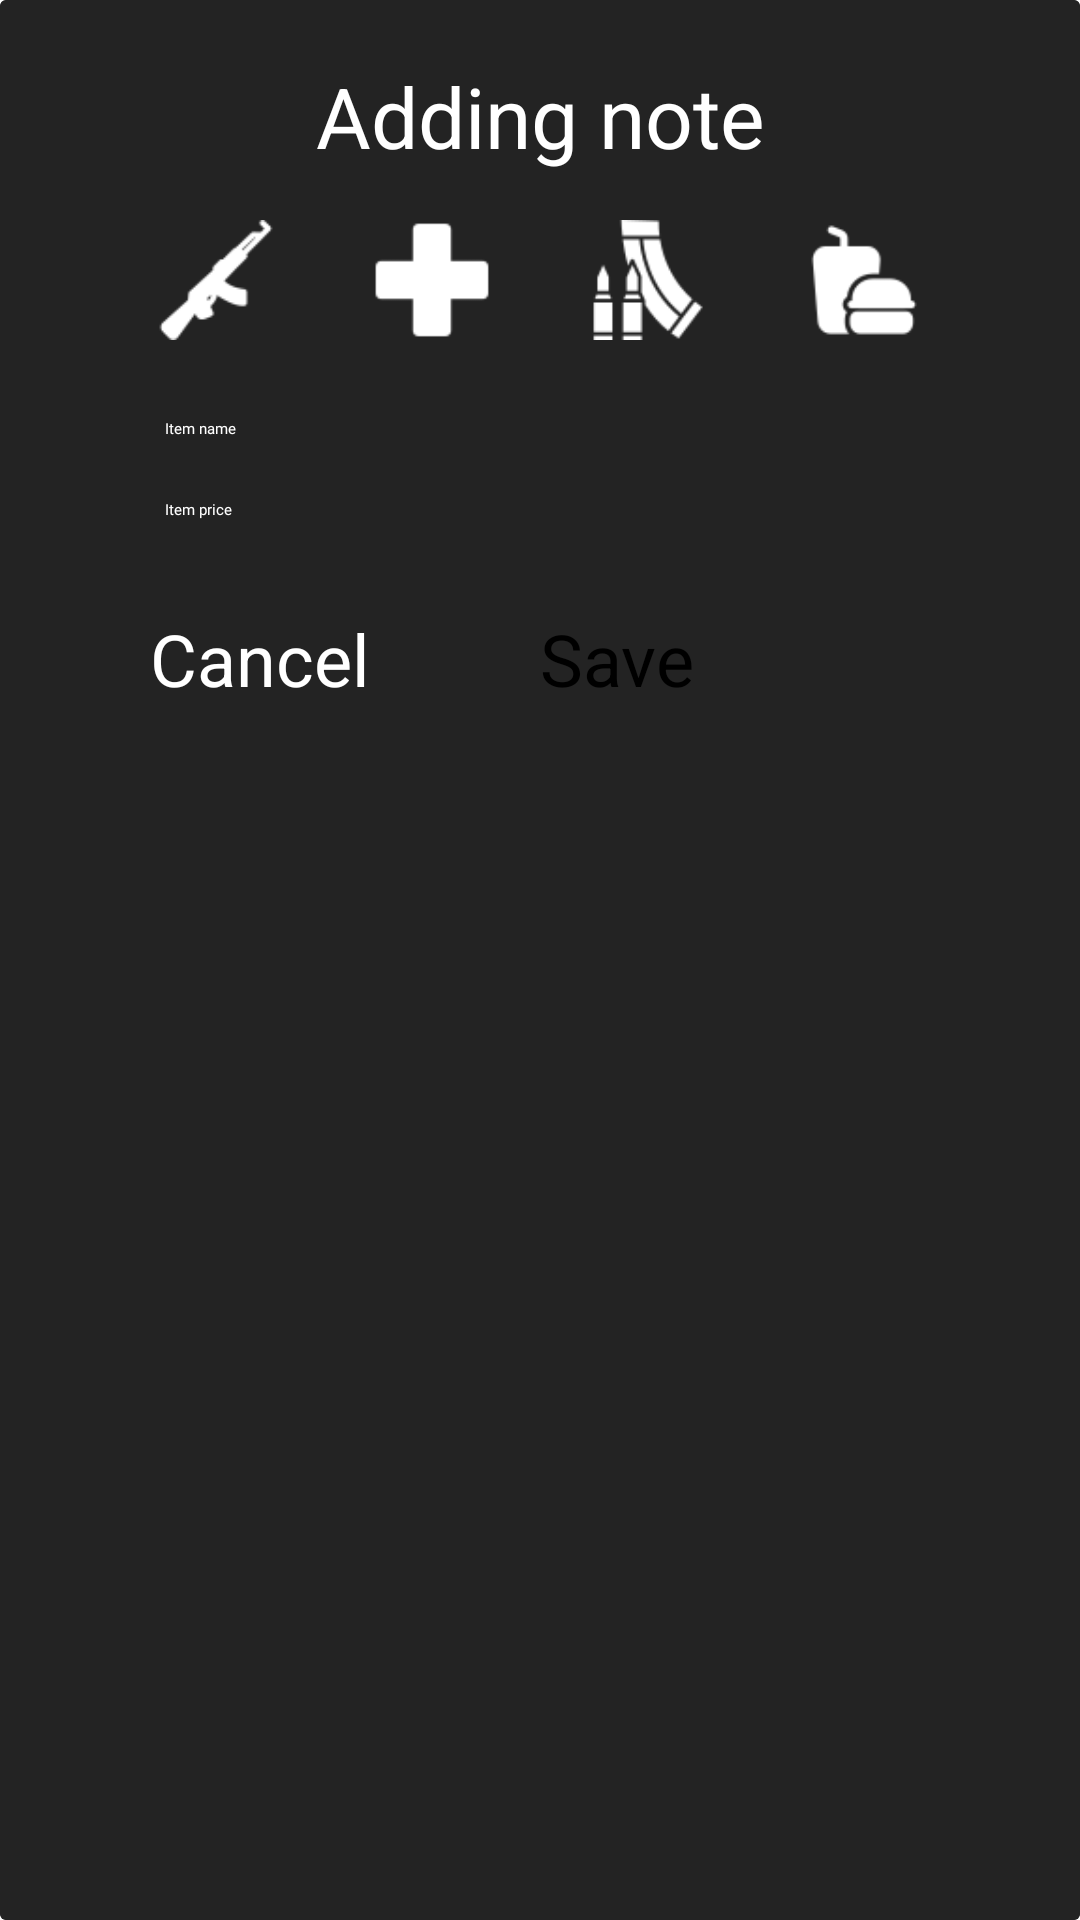

Screen size 1080*1920. Icon name, then its box in pixels as bbox=(x1, y1, x2, y2):
ammunition: bbox=(593, 220, 703, 340)
food: bbox=(811, 225, 916, 335)
plus sign: bbox=(375, 223, 489, 337)
weapon: bbox=(159, 220, 273, 340)
